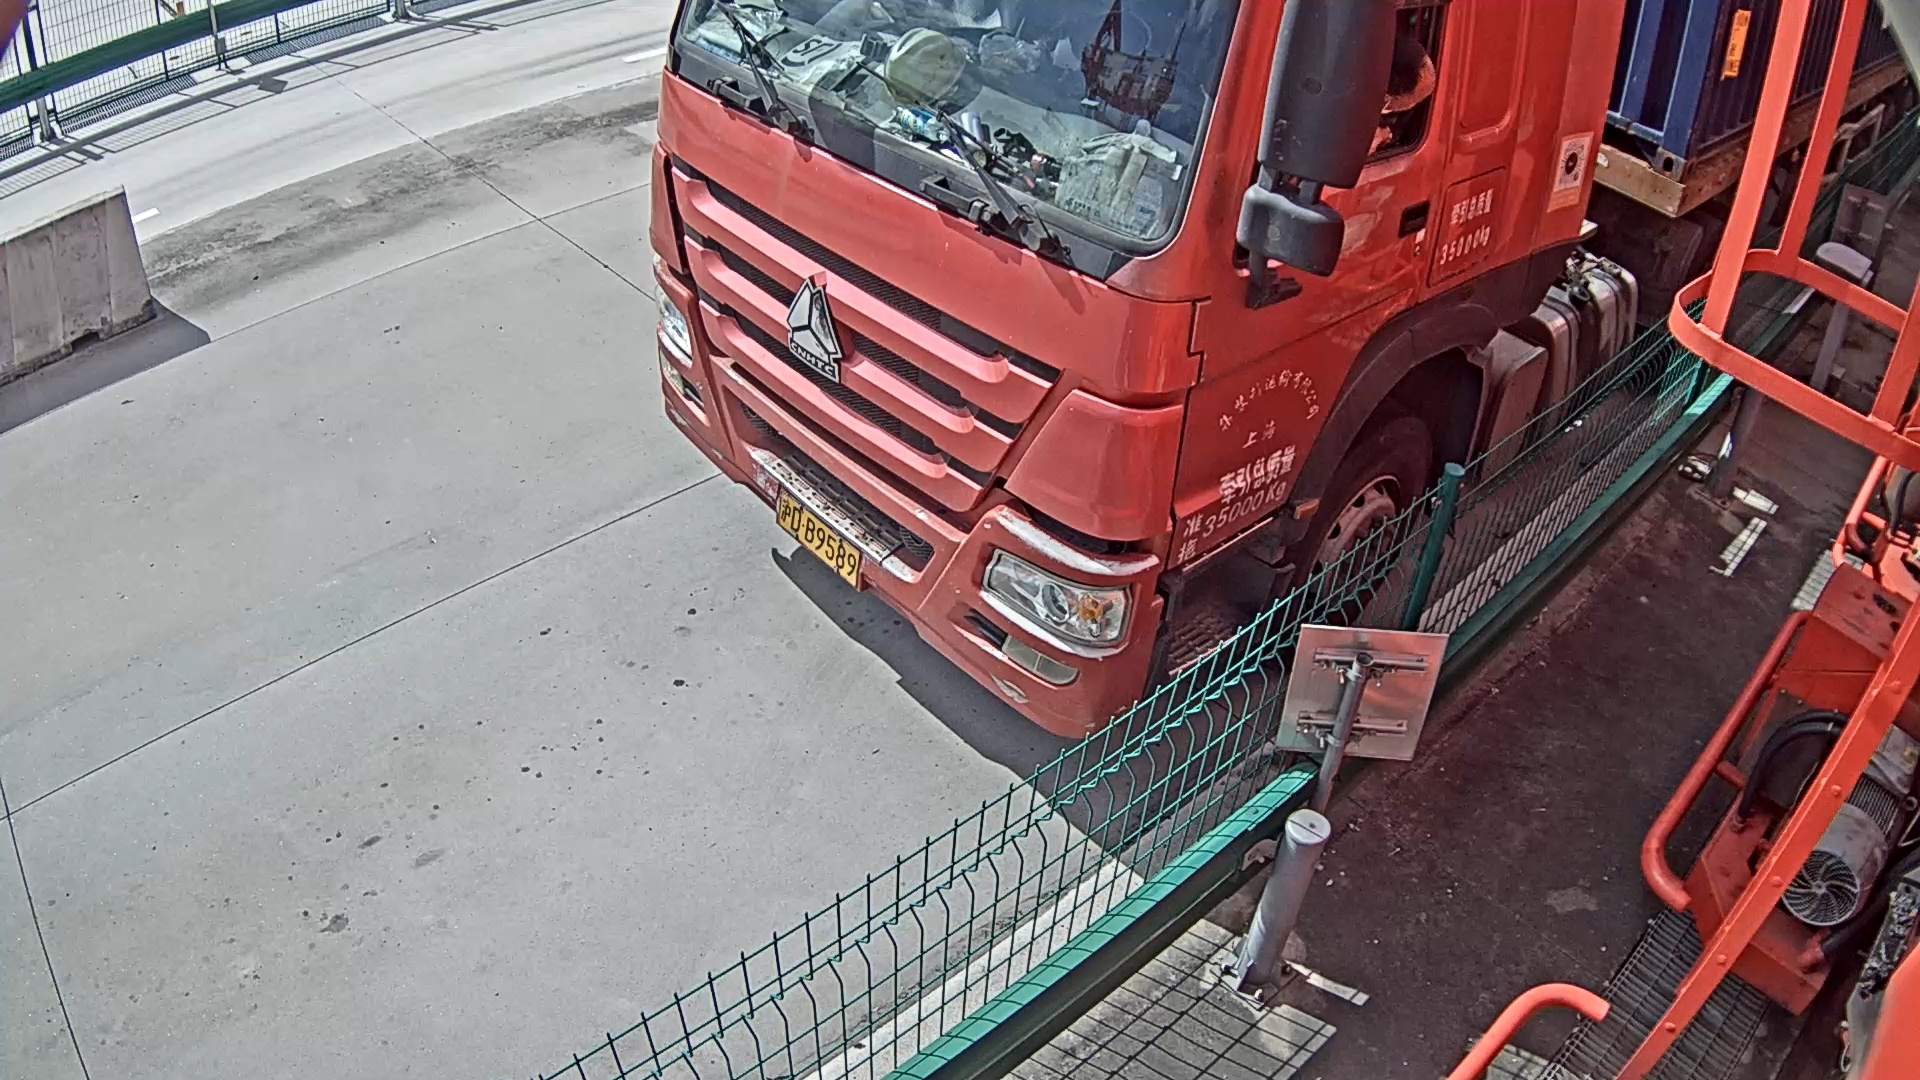head: (658, 1, 1610, 728)
plate: (770, 482, 858, 591)
